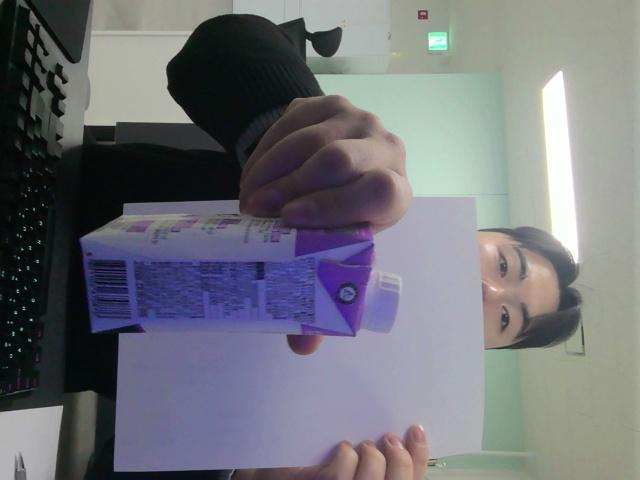milk: (83, 214, 401, 336)
